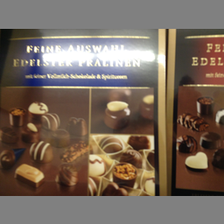chocolate: (1, 29, 165, 195), (166, 29, 224, 190)
